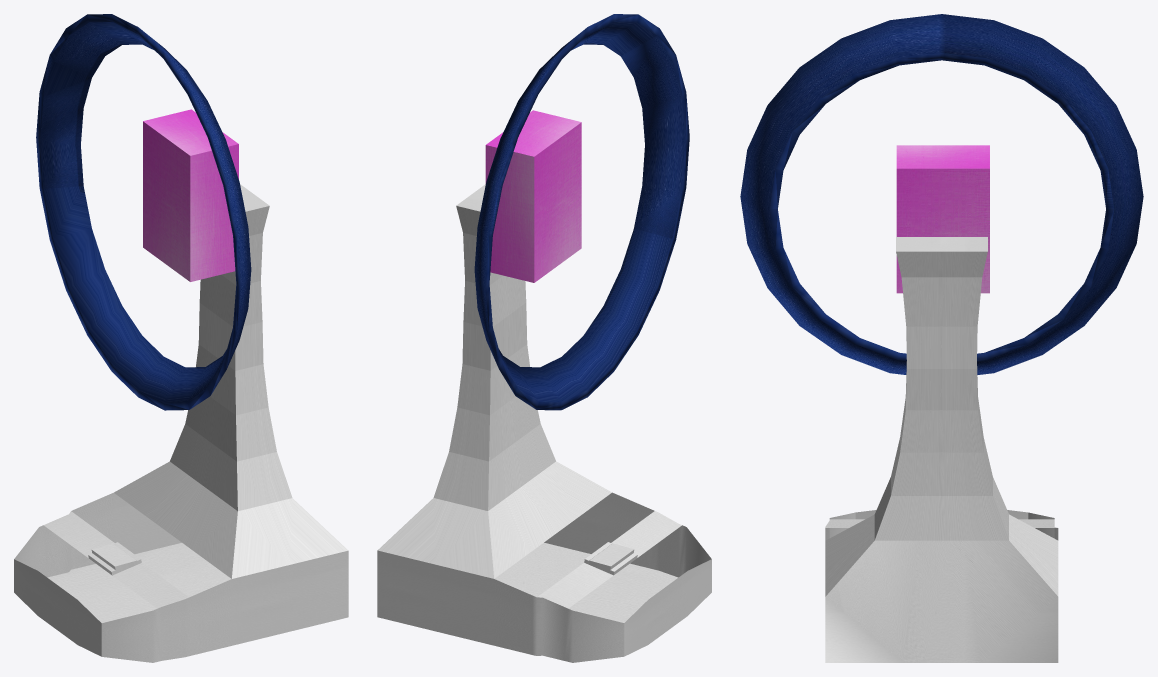
Rendered from Fan.dae.
3 renders of one model, left to right at view 1: azimuth 30°, elevation 25°; view 2: azimuth 150°, elevation 25°; view 3: azimuth 270°, elevation 25°, orthographic.
Parts seen in each view (by area): view 1: Box001_001, Cone001, Box002_001; view 2: Box001_001, Cone001, Box002_001; view 3: Box001_001, Cone001, Box002_001.
Boxes of the visible parts, <box> form: Box001_001: <box>14,184,348,662</box>; Cone001: <box>36,14,251,410</box>; Box002_001: <box>143,109,238,281</box>; Box001_001: <box>377,184,711,662</box>; Cone001: <box>474,14,689,410</box>; Box002_001: <box>485,110,581,282</box>; Box001_001: <box>825,237,1058,662</box>; Cone001: <box>740,14,1143,374</box>; Box002_001: <box>896,145,989,293</box>.
Size of the model in its own units: 30.15 by 46.02 by 72.54.
Materials: 3 (3 with a texture image).
